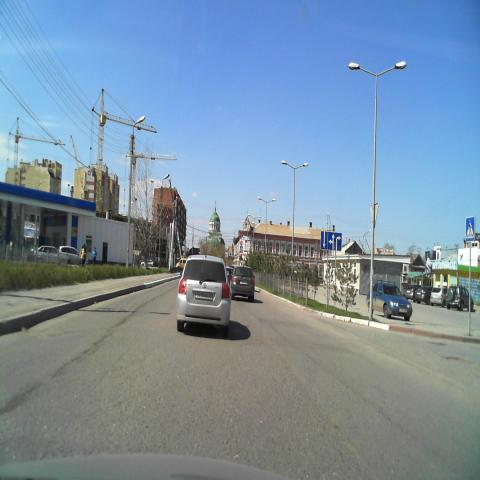5_15_7: (320, 230, 342, 251)
